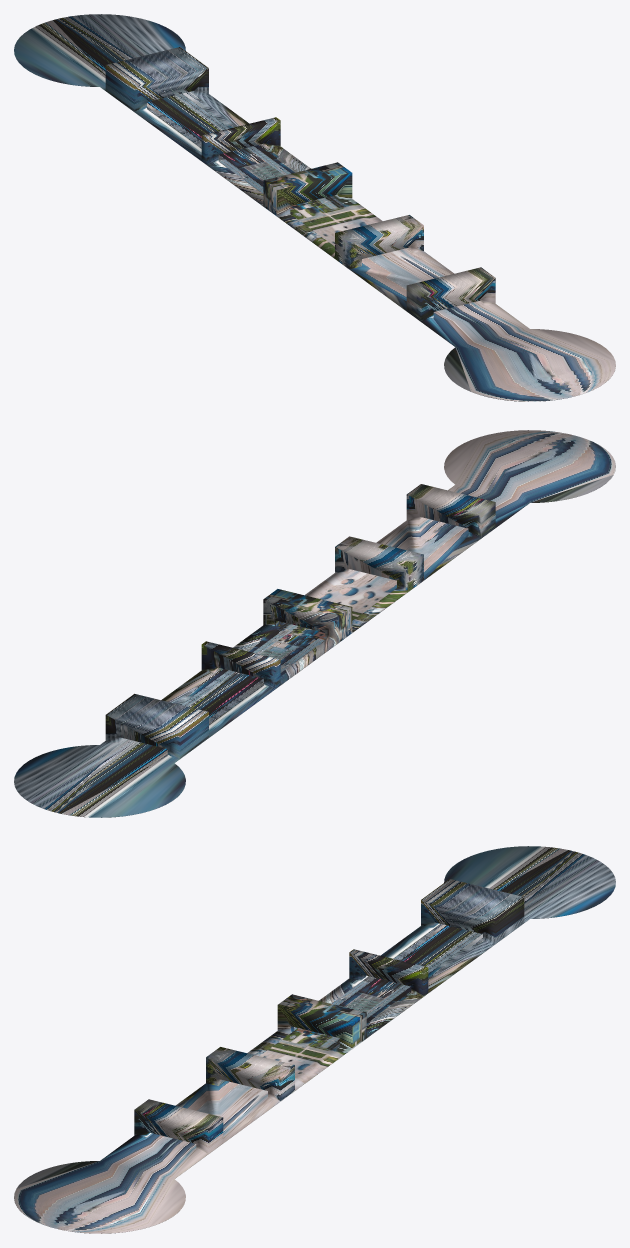
The model's file is parkour_1.dae.
The picture shows the model from 3 angles, top to bottom: view 1: azimuth 30°, elevation 25°; view 2: azimuth 150°, elevation 25°; view 3: azimuth 330°, elevation 25°; orthographic projection.
Visible parts, largest first — view 1: Parkour_1 v1; view 2: Parkour_1 v1; view 3: Parkour_1 v1.
Boxes of the visible parts, <box> form: Parkour_1 v1: <box>14,14,615,401</box>; Parkour_1 v1: <box>14,430,615,817</box>; Parkour_1 v1: <box>14,846,615,1233</box>.
Size of the model in its own units: 5.99 by 35.99 by 1.01.
Materials: 1 (1 with a texture image).
